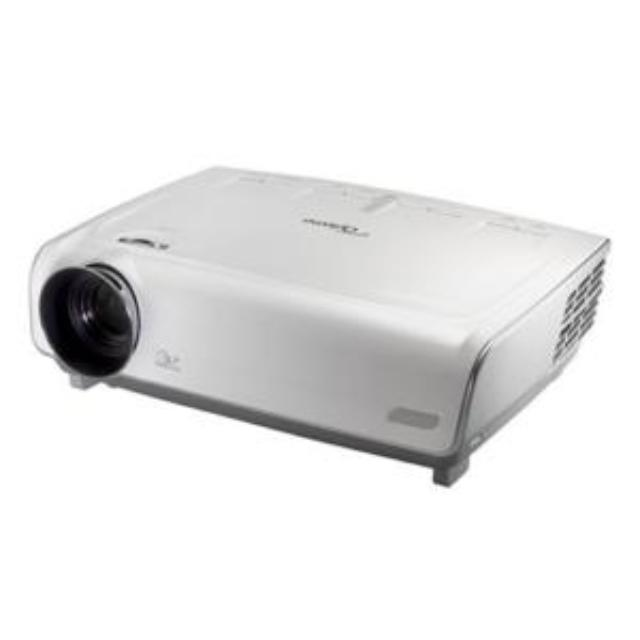Projector: (25, 168, 611, 500)
